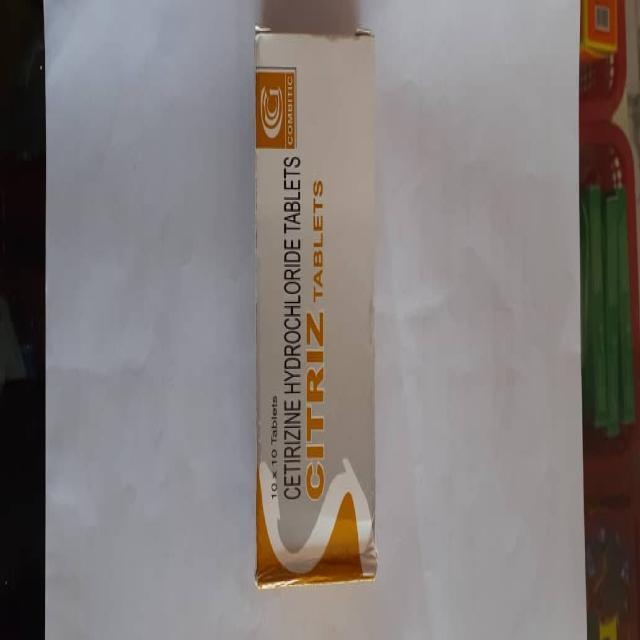drug-name: (306, 308, 328, 500)
